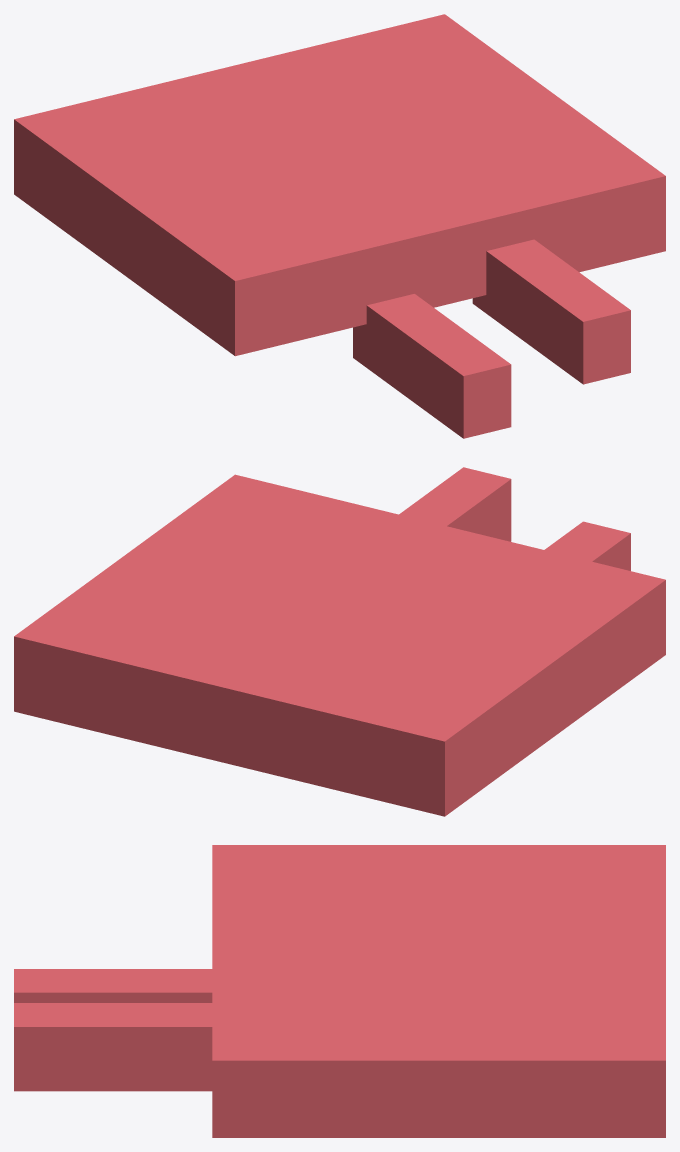
File: hat_band.gltf
3 renders of one model, top to bottom at view 1: azimuth 30°, elevation 25°; view 2: azimuth 150°, elevation 25°; view 3: azimuth 270°, elevation 25°, orthographic. The views are drawn at different scales.
Visible parts, largest first — view 1: hat_band; view 2: hat_band; view 3: hat_band.
Part boxes in pixels (x1,y1,x2,y2): hat_band: [14, 14, 665, 438]; hat_band: [14, 467, 665, 816]; hat_band: [14, 845, 665, 1137].
Bounding box in the file's own units: 0.36 × 0.095 × 0.46.
